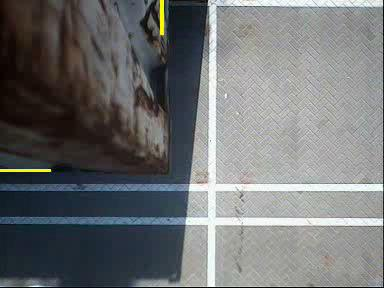groundmarker_2: (173, 219, 241, 272), (170, 70, 238, 123)
